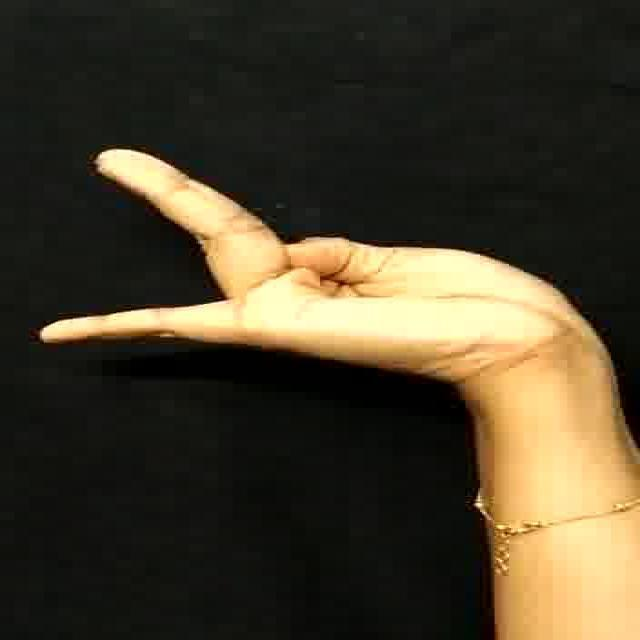chatur: (26, 116, 608, 444)
